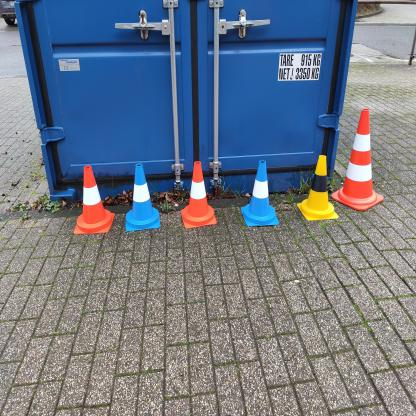Cones_big: (331, 103, 392, 214)
Cones_small_blue: (240, 158, 280, 230), (124, 159, 162, 232)
Cones_small_orange: (68, 164, 121, 241), (176, 160, 219, 232)
Cones_small_yellow: (298, 154, 342, 225)
